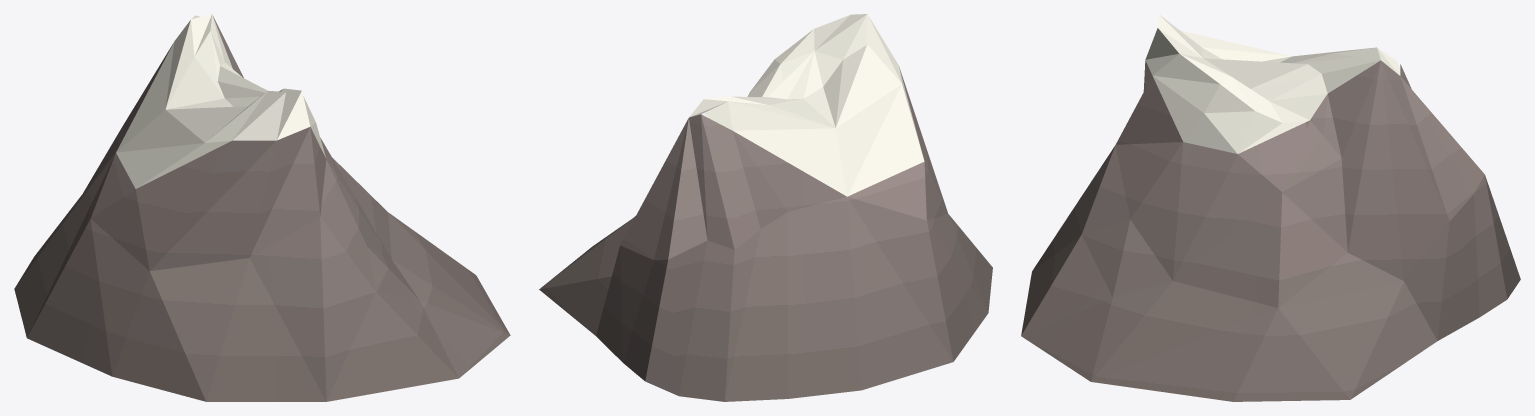
File: Mountain01.FBX
3 views of the same model, side by side, from view 1: azimuth 30°, elevation 25°; view 2: azimuth 150°, elevation 25°; view 3: azimuth 270°, elevation 25° (orthographic). The views are drawn at different scales.
Visible parts, largest first — view 1: Mountain01; view 2: Mountain01; view 3: Mountain01.
Part boxes in pixels (x1=…): Mountain01: x1=14, y1=14, x2=510, y2=401; Mountain01: x1=539, y1=14, x2=992, y2=401; Mountain01: x1=1021, y1=14, x2=1520, y2=401.
Bounding box in the file's own units: 631 × 399 × 672.
Materials: 1 (1 with a texture image).
